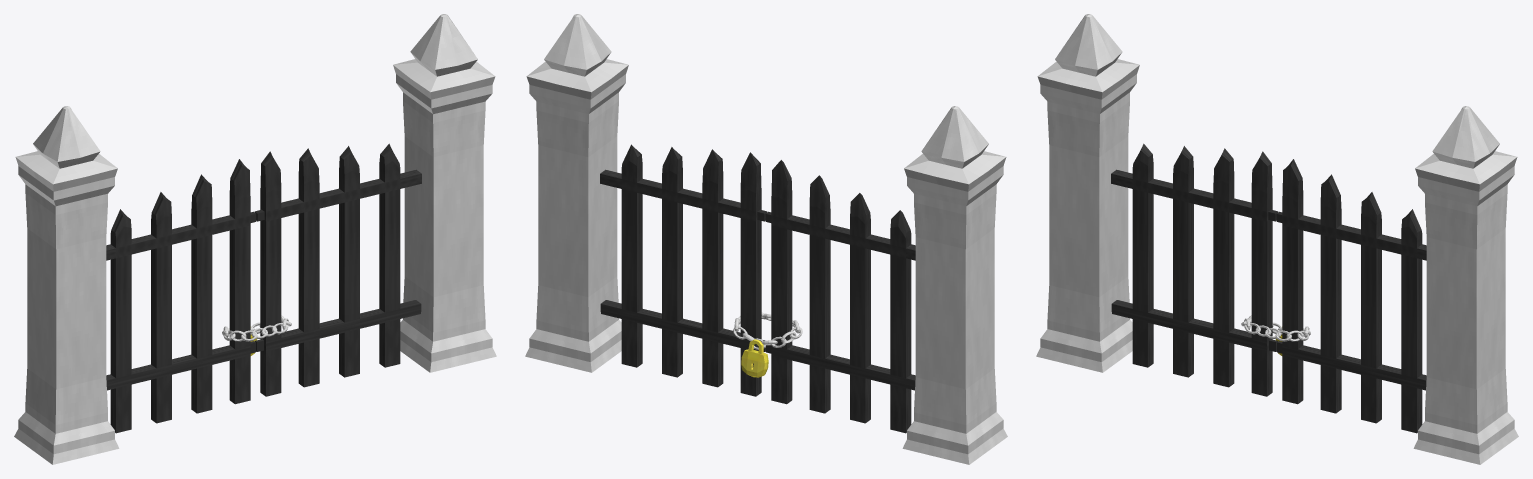
File: portao.gltf
3 views of the same model, side by side, from view 1: azimuth 30°, elevation 25°; view 2: azimuth 150°, elevation 25°; view 3: azimuth 330°, elevation 25° (orthographic).
Visible parts, largest first — view 1: cuboid (×4); view 2: cuboid (×5); view 3: cuboid (×4).
Boxes of the visible parts, x1,y1,x2,y2 form: cuboid (×4): (14, 14, 496, 464); cuboid (×5): (525, 14, 1007, 464); cuboid (×4): (1036, 14, 1518, 464).
Bounding box in the file's own units: 2.91 × 2.1 × 0.4375.
1 material, 1 textured.
